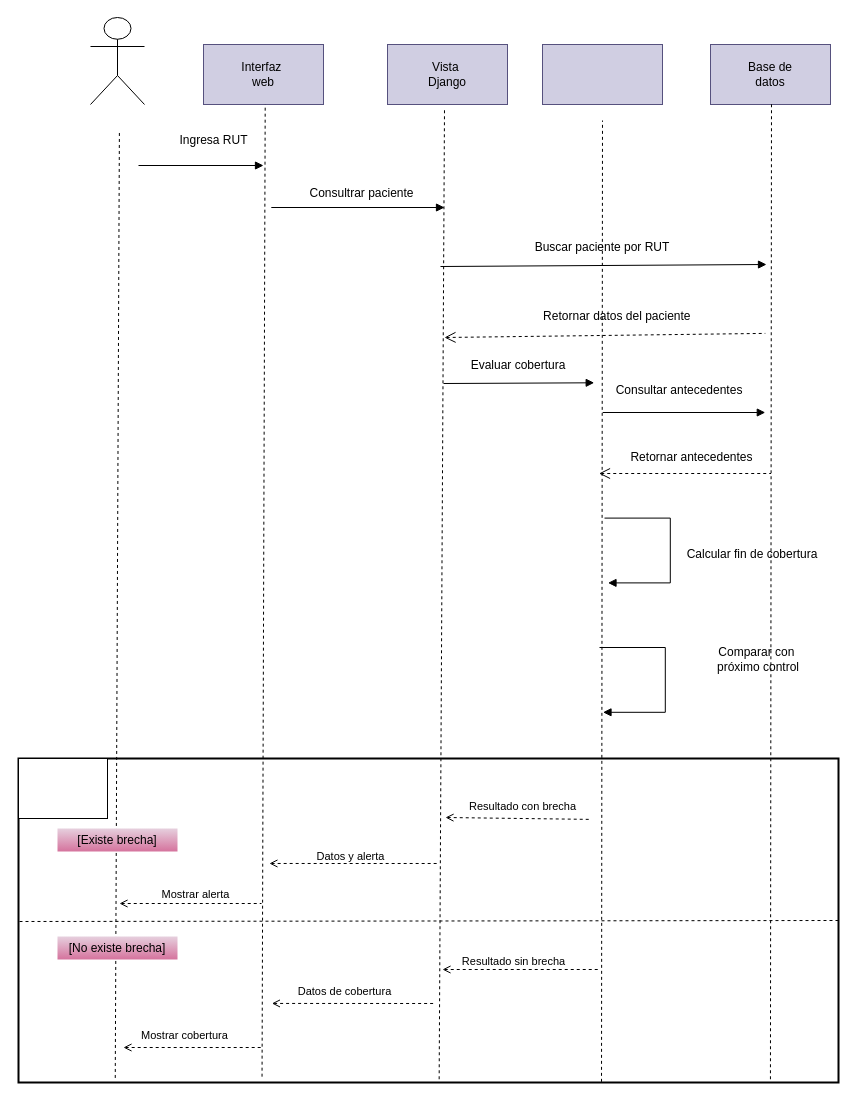
Some shapes in this 857 by 1101 pixel diagram are drawn without their labels. The centre of each missing label's shape, as x and y in pixels:
alt: point 63,788
Médico: point 117,60
Servicio de cobertura: point 602,74
